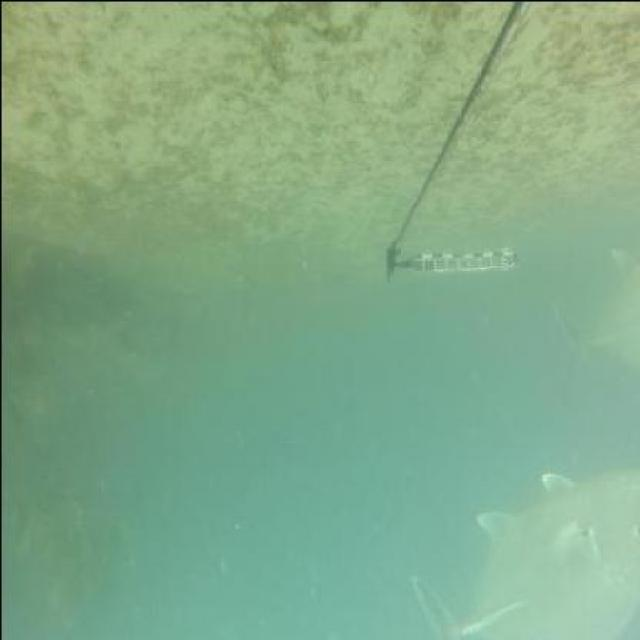Caranx: (410, 449, 638, 640), (552, 241, 638, 397)
